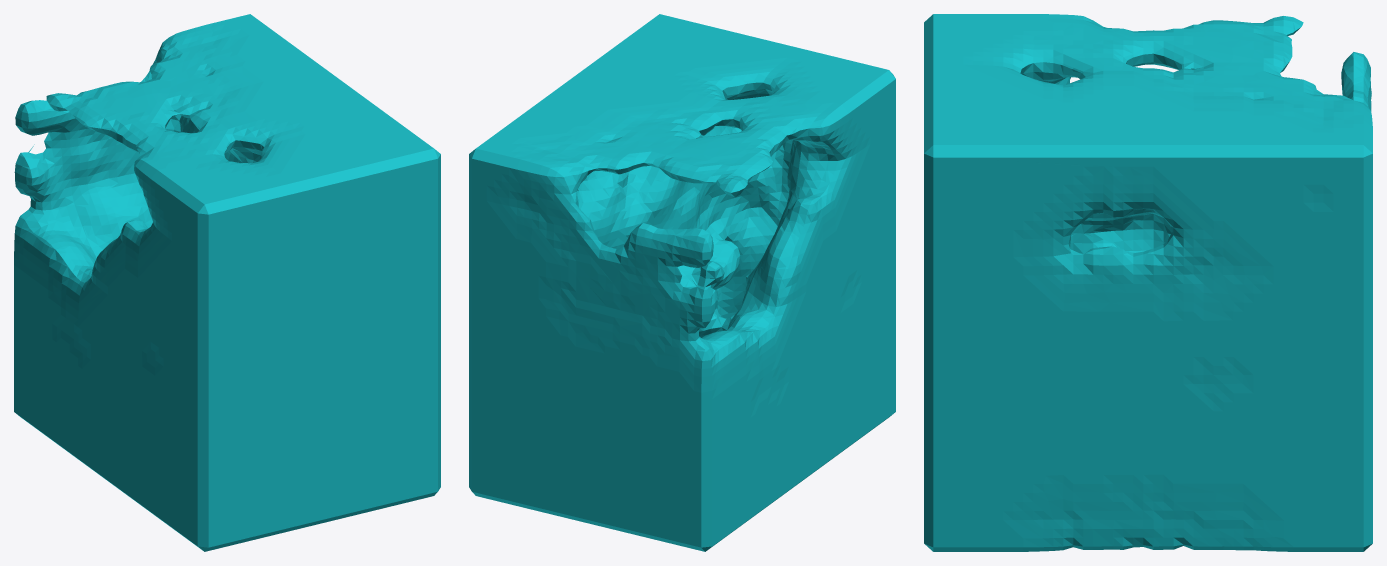
The picture shows the model from 3 angles, left to right: view 1: azimuth 30°, elevation 25°; view 2: azimuth 150°, elevation 25°; view 3: azimuth 270°, elevation 25°; orthographic projection. The views are drawn at different scales.
Parts seen in each view (by area): view 1: Liquid_Domain; view 2: Liquid_Domain; view 3: Liquid_Domain.
Boxes of the visible parts, box(x1,y1,x2,y2) form: Liquid_Domain: box(14, 14, 440, 551); Liquid_Domain: box(469, 14, 895, 551); Liquid_Domain: box(924, 14, 1372, 551).
Size of the model in its own units: 79.09 by 108 by 108.
